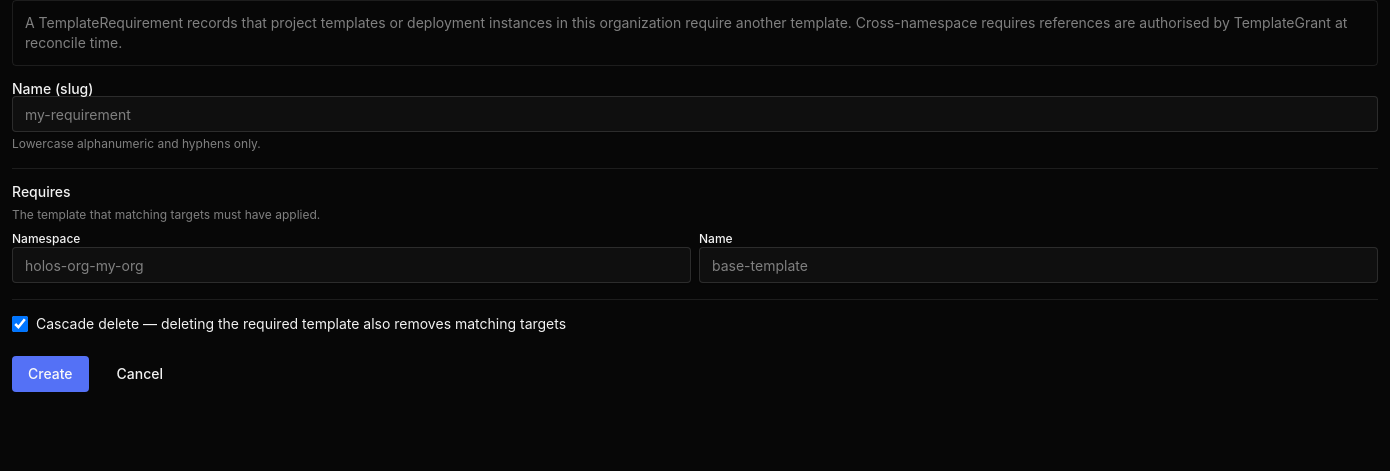
RequirementForm › shows an error when name is empty on submit
Click the button "Create" at {"x": 50, "y": 374}, box [12,356,89,392]
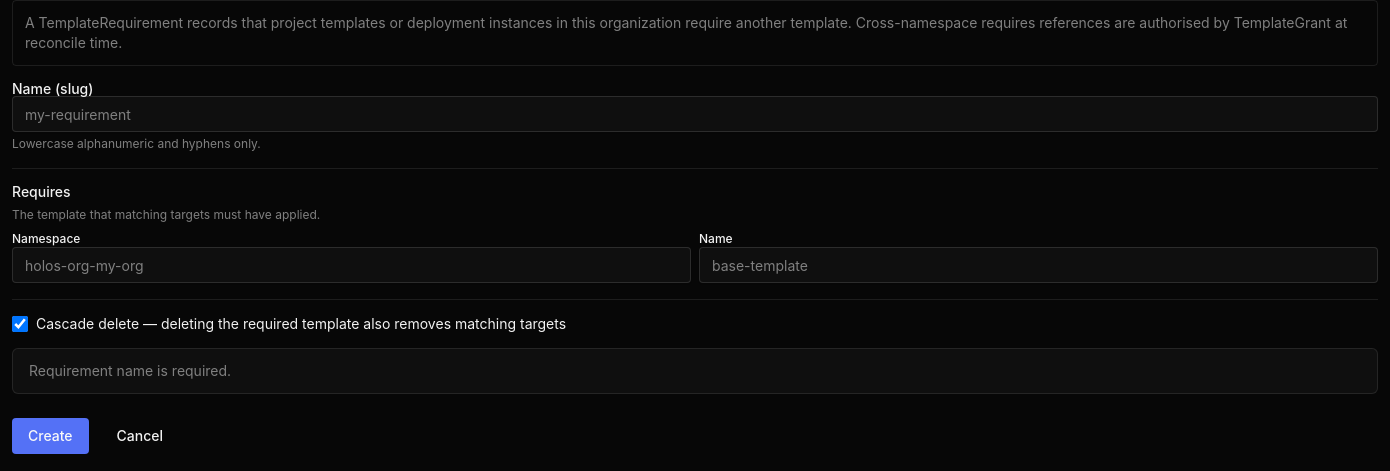
expect the element with test id "requirement-form-error" shows "Requirement name is required": met, box [29,362,231,379]
